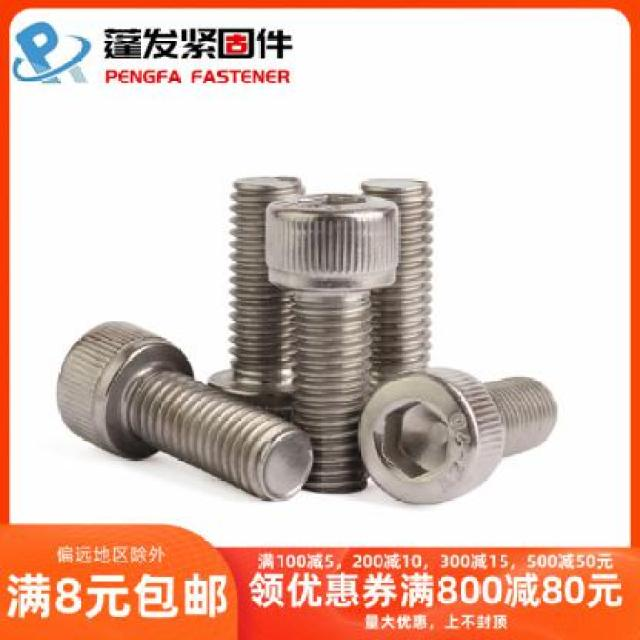Bolt: (55, 320, 312, 505), (265, 197, 404, 494), (359, 366, 559, 506), (208, 171, 311, 415), (359, 174, 436, 395)
